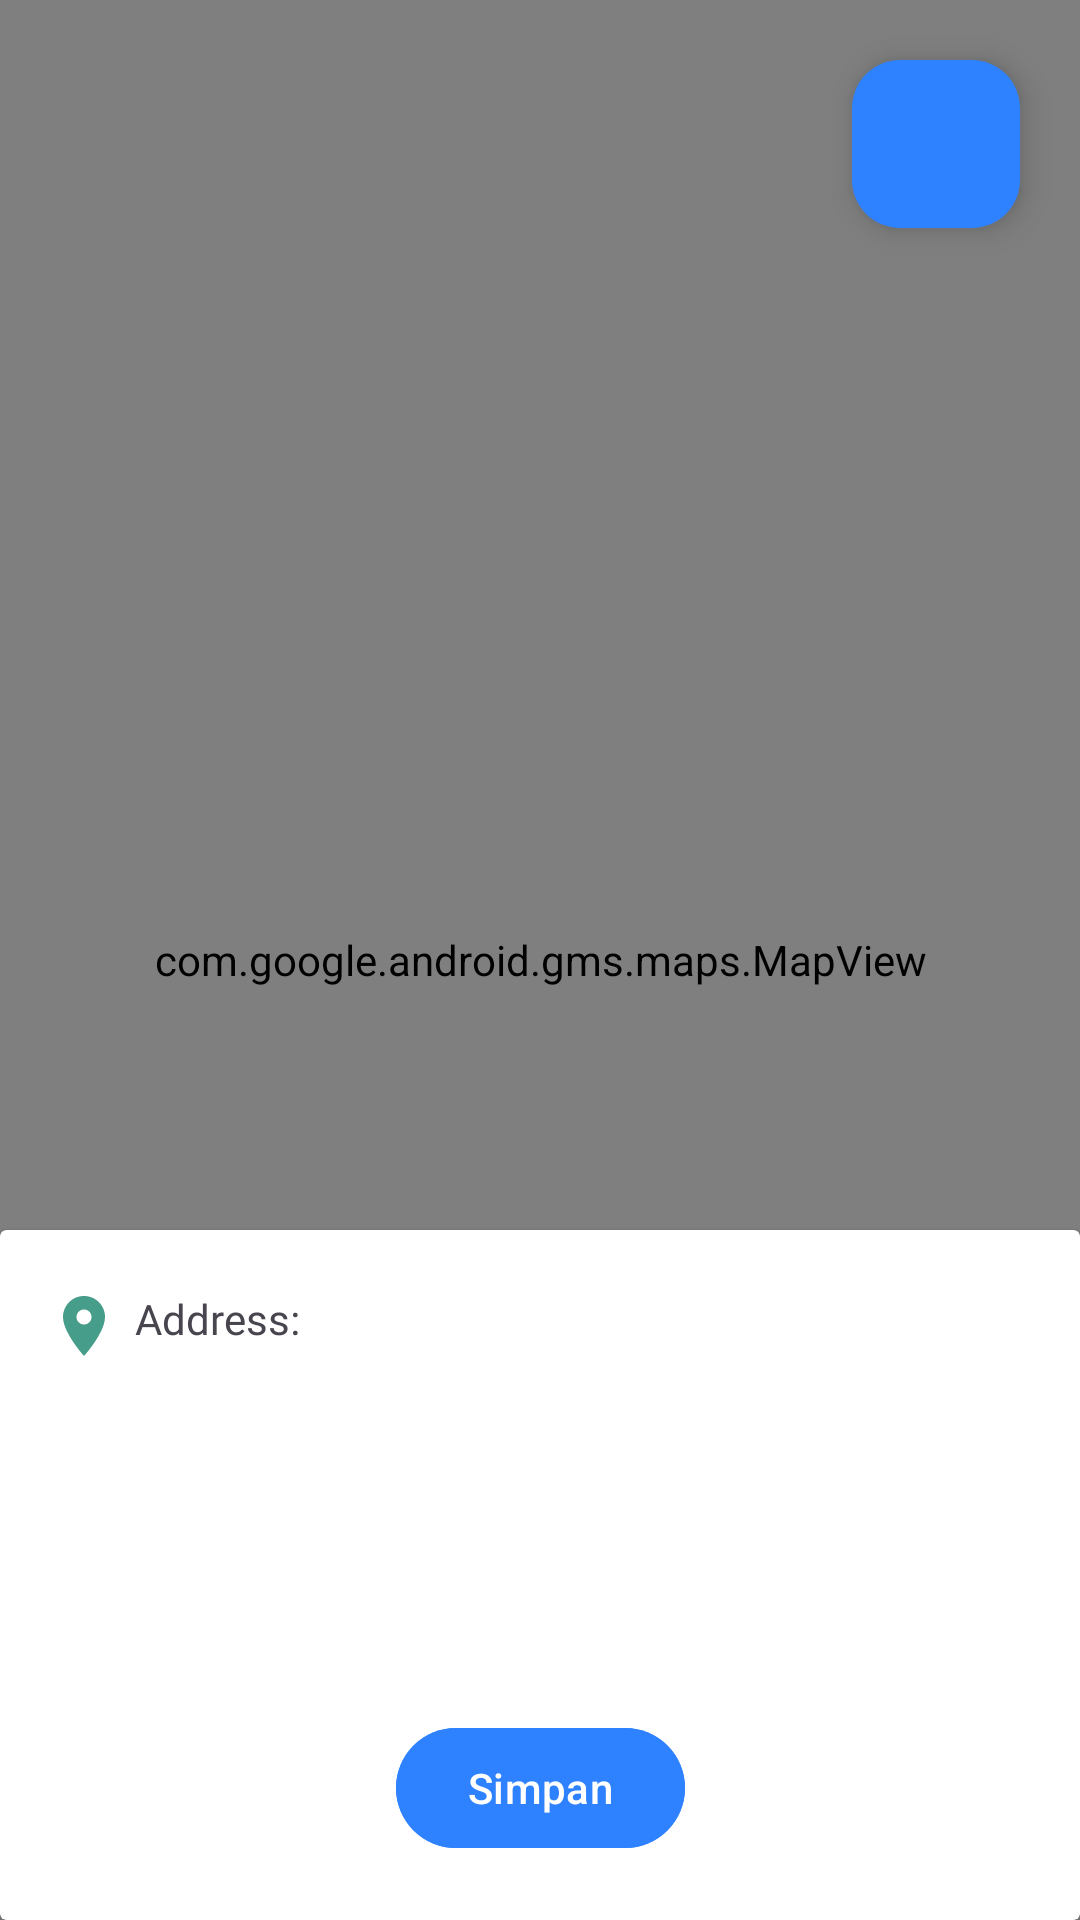

Where to tap for icons on this 1080px×1920px app screen, as (x=x, y=y):
location on: (x=84, y=1326)
